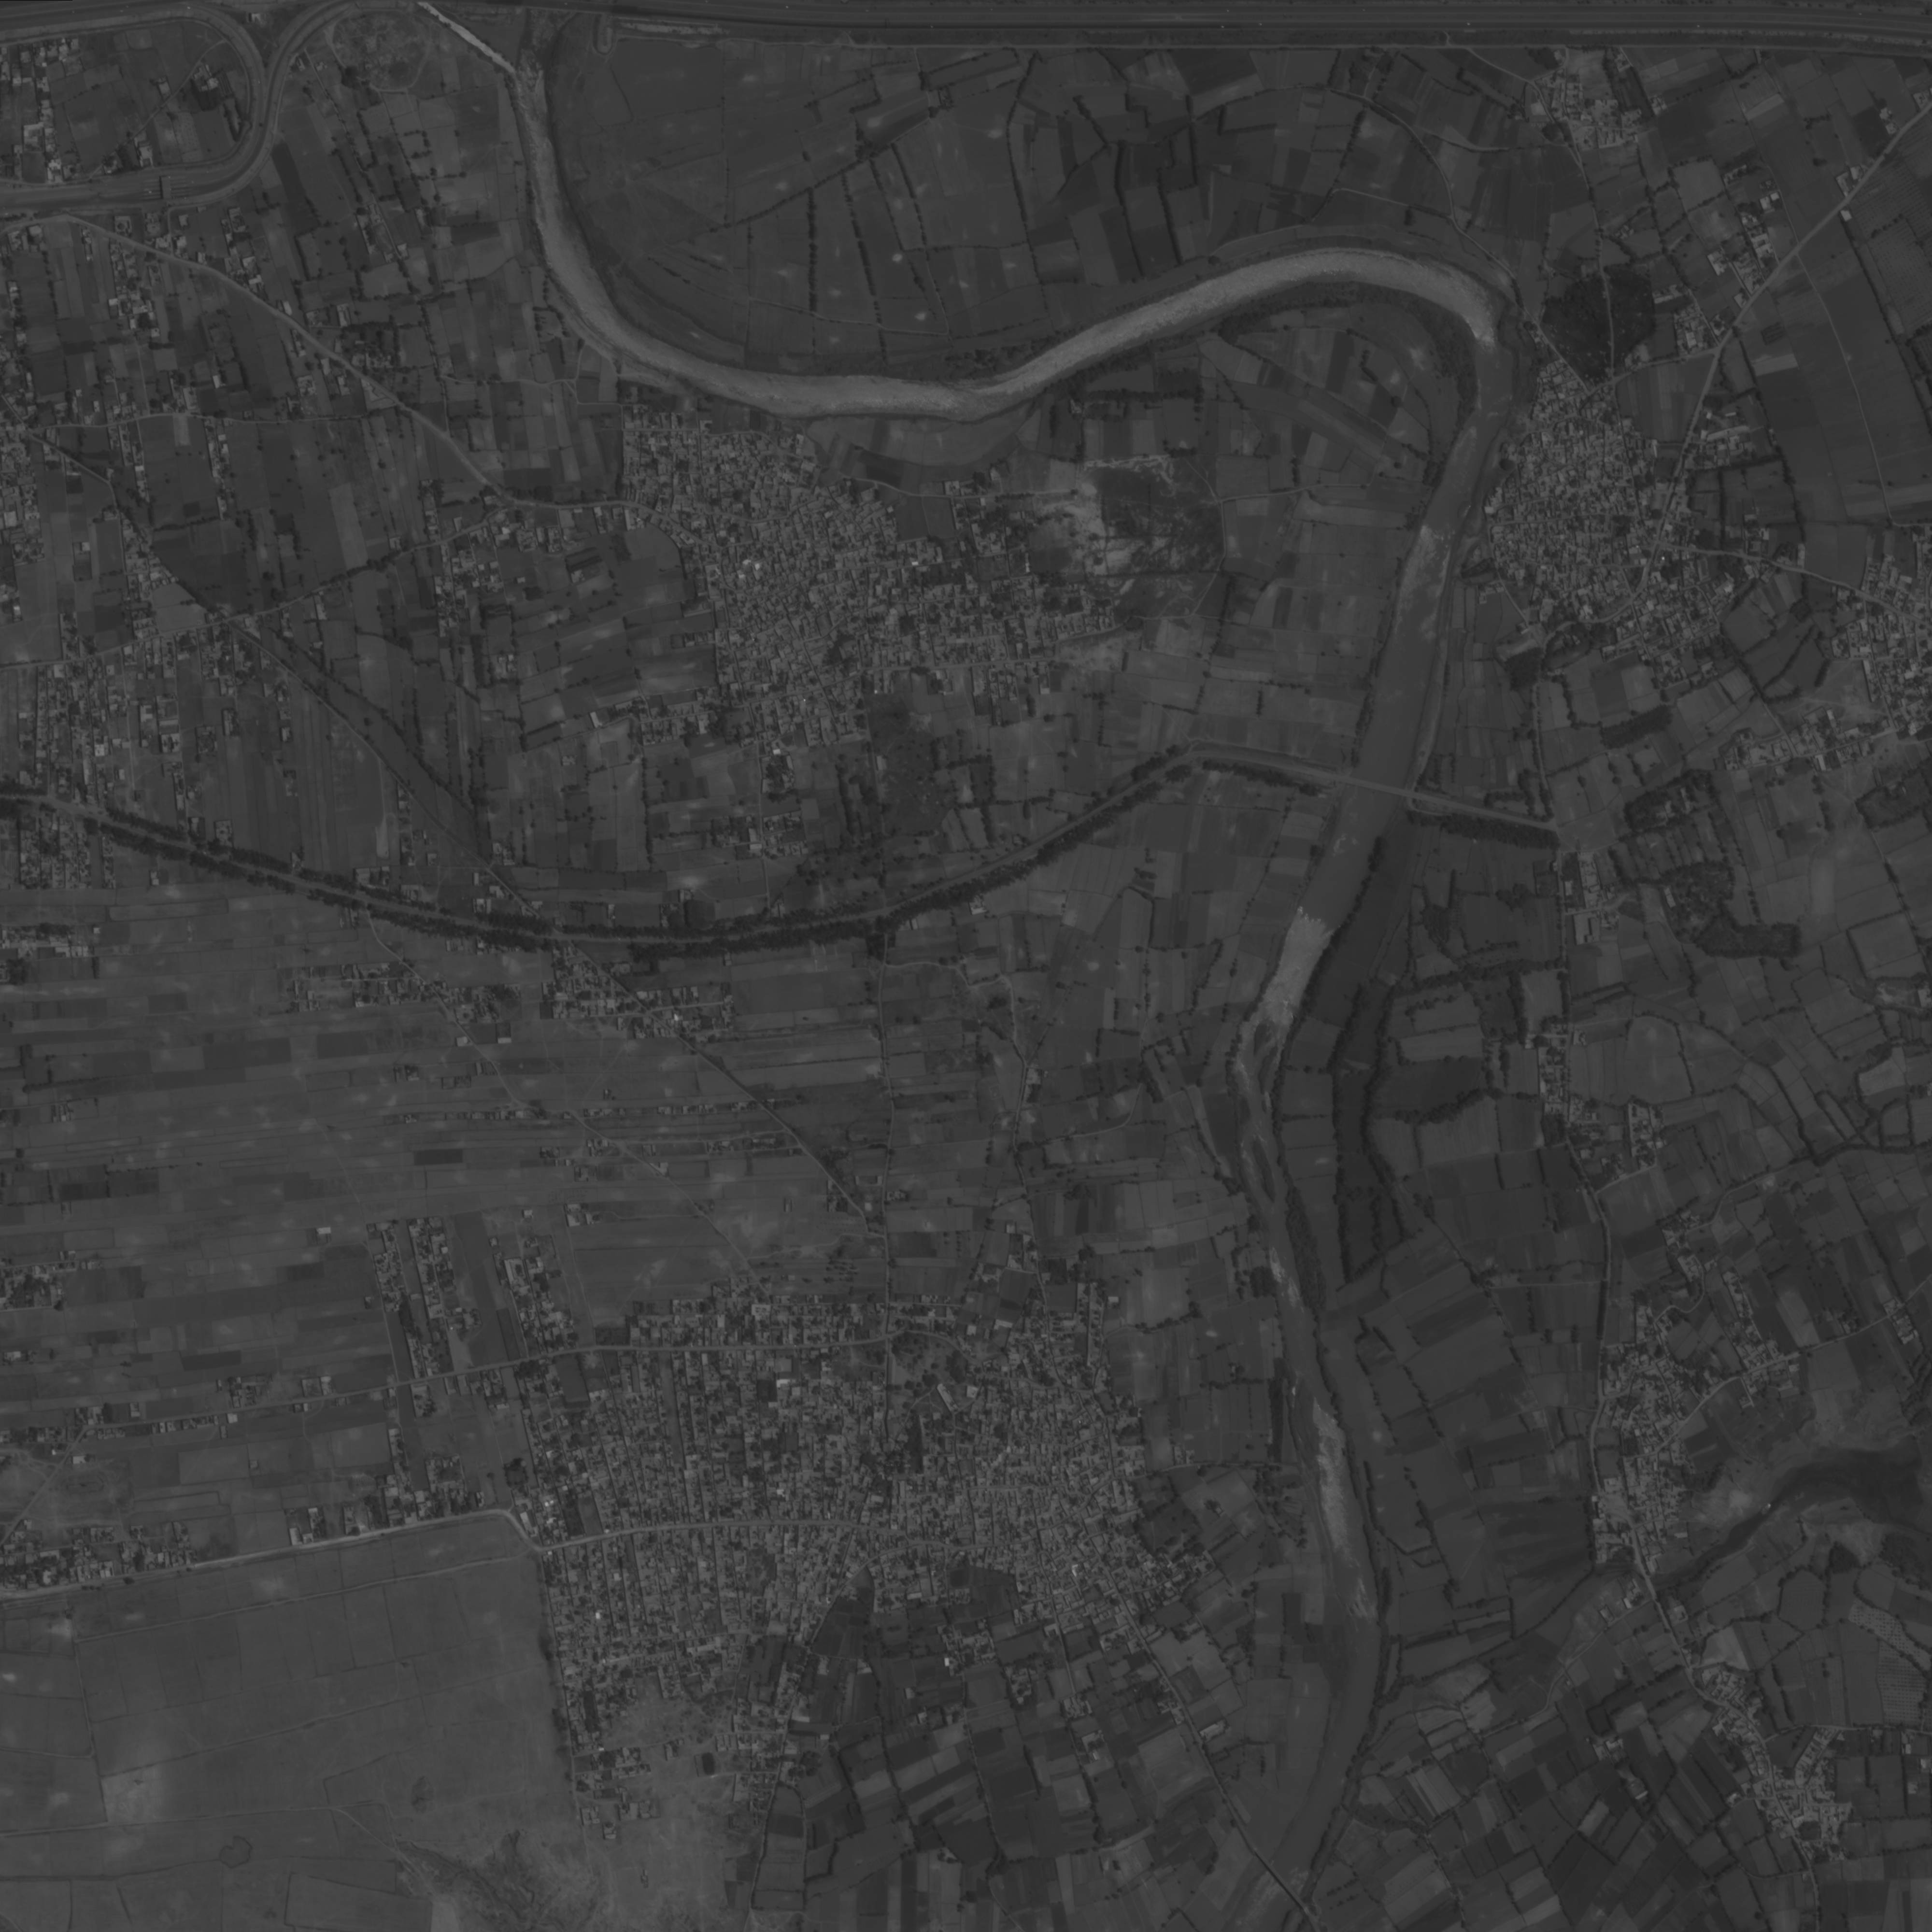bridge: (1254, 1849, 1309, 1911), (1339, 775, 1405, 798)
